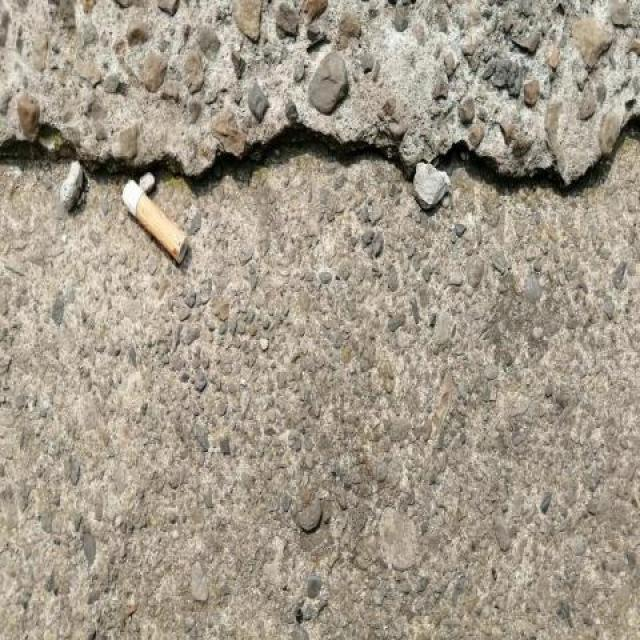non-organic waste: (116, 175, 192, 266)
